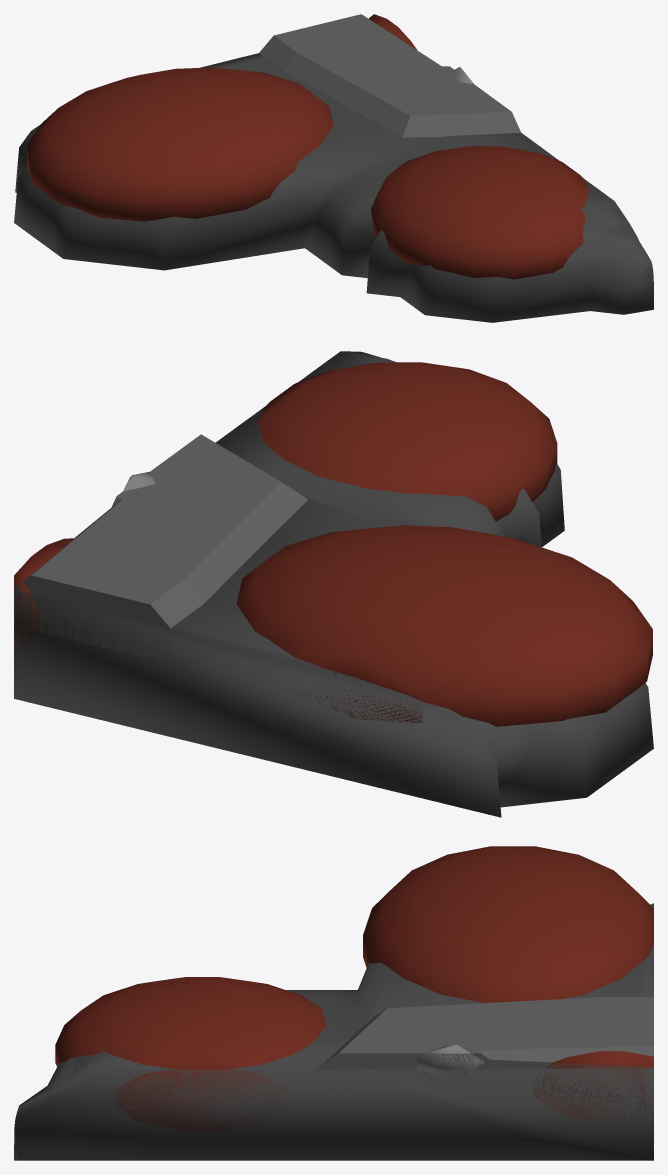
File: newsh9-119.glb
3 renders of one model, top to bottom at view 1: azimuth 30°, elevation 25°; view 2: azimuth 150°, elevation 25°; view 3: azimuth 270°, elevation 25°, orthographic. The views are drawn at different scales.
Parts seen in each view (by area): view 1: newsh9-119; view 2: newsh9-119; view 3: newsh9-119.
Boxes of the visible parts, x1=… form: newsh9-119: x1=14, y1=14, x2=653, y2=322; newsh9-119: x1=14, y1=351, x2=653, y2=817; newsh9-119: x1=14, y1=846, x2=653, y2=1160.
Bounding box in the file's own units: 1.53 × 0.44 × 1.89.
